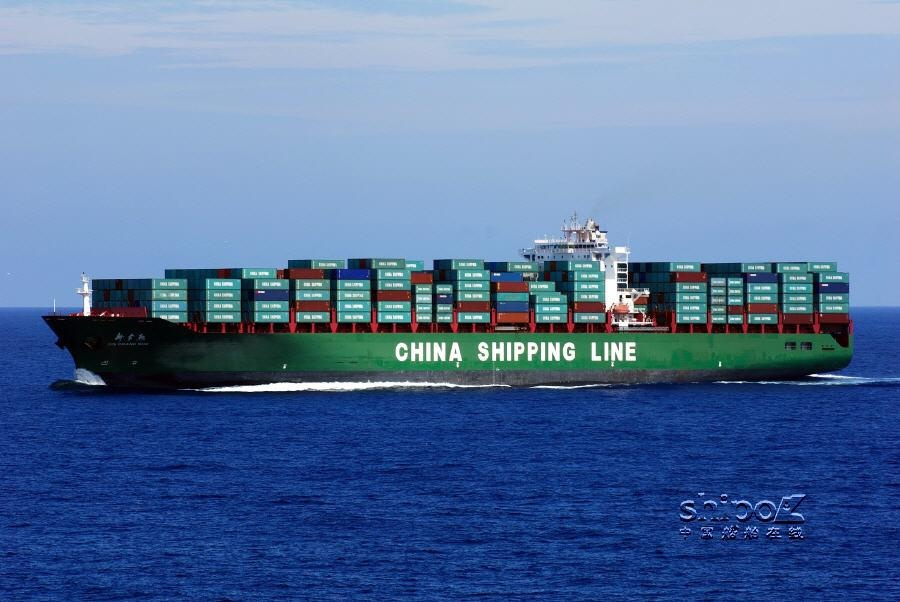Cargoship: (30, 205, 864, 397)
